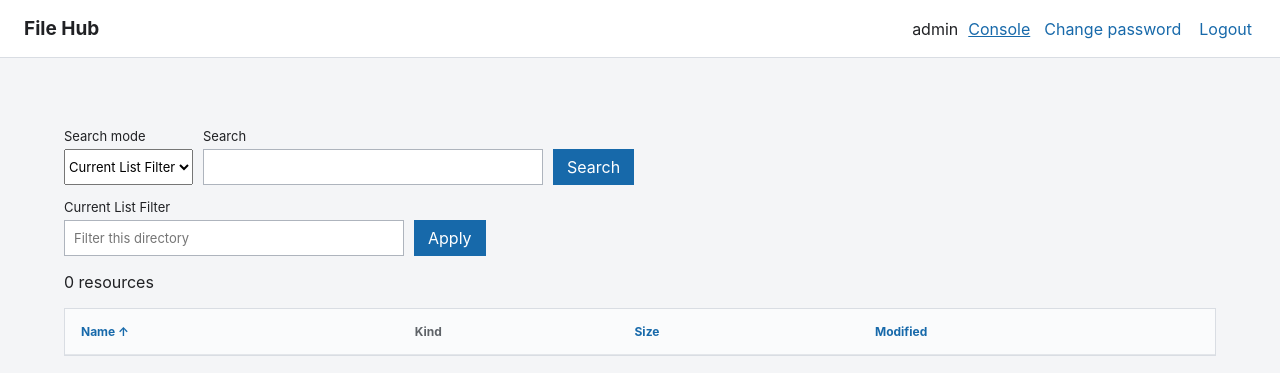
Test: File Hub browser › renders authenticated identity controls and logs out
The width and height of the screenshot is (1280, 373).
Expected: the button "Change password" is shown, [1040,14,1185,42]
Click the button with id "logout-action" at [1226, 28], box [1195,14,1256,42]
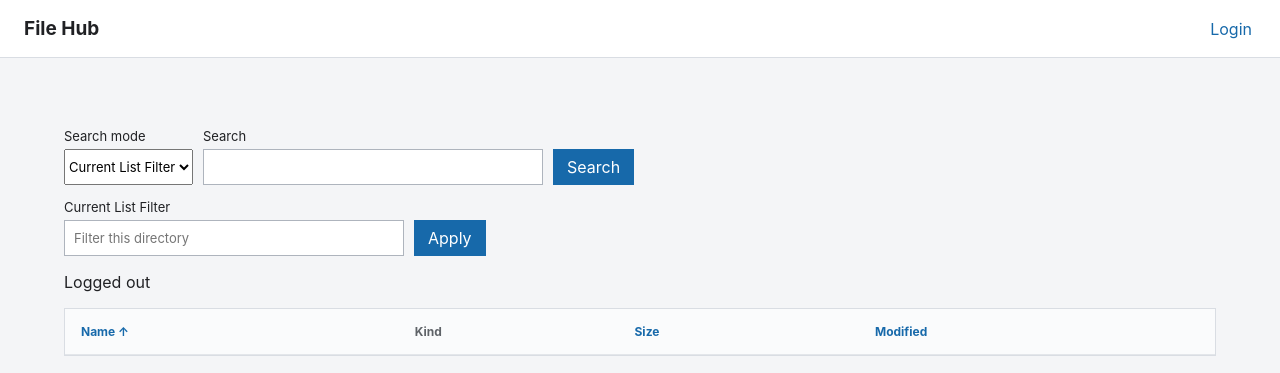
Result: the button with id "login-action" reads "Login" at [1206,14,1256,42]
